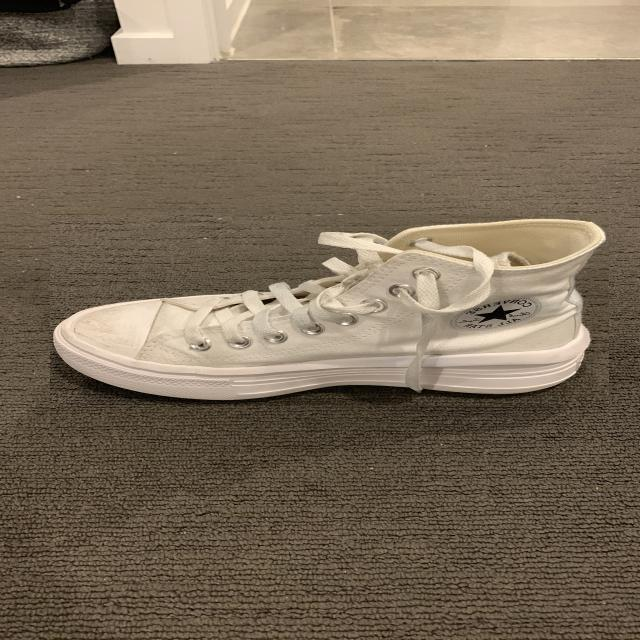shoes: (50, 215, 609, 405)
